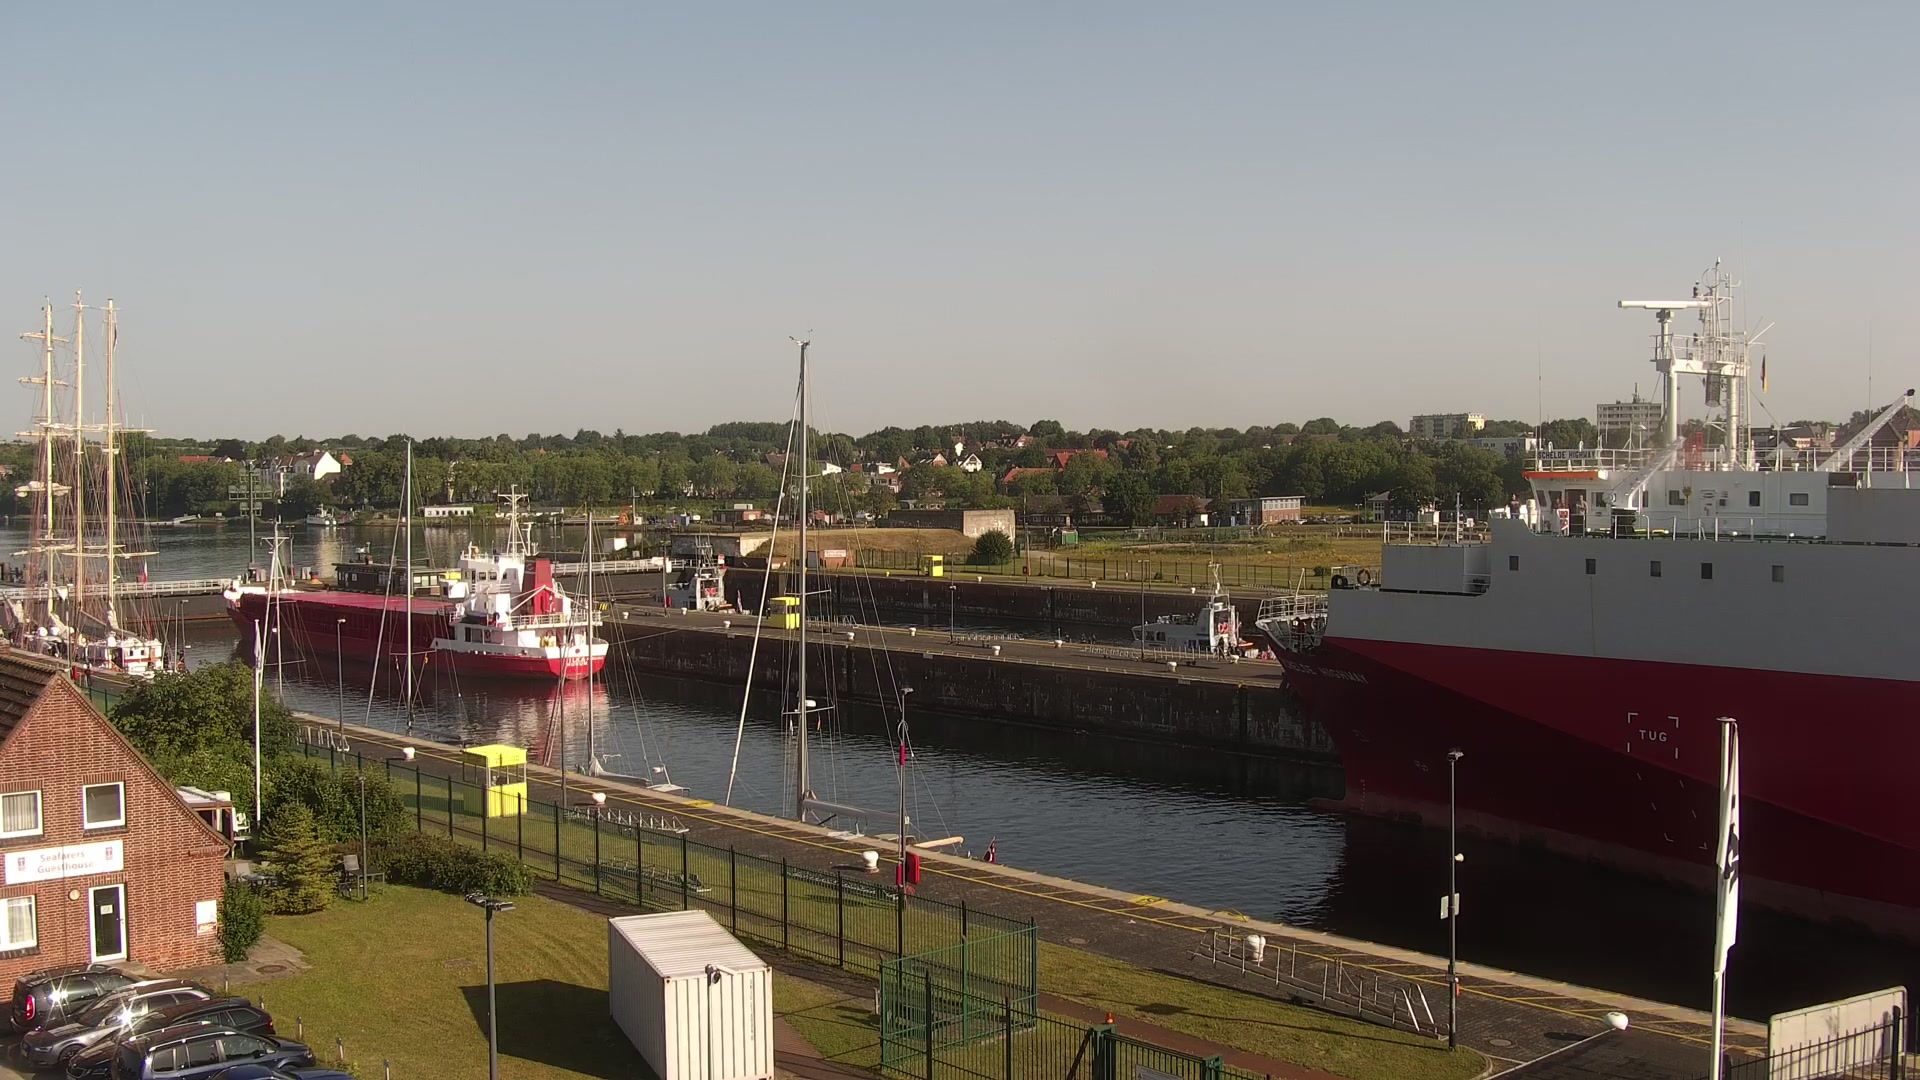land: (17, 973, 220, 1069), (63, 994, 276, 1077), (105, 1015, 315, 1079), (7, 961, 156, 1033)
sea: (1247, 255, 1919, 945), (717, 335, 1000, 869), (222, 480, 609, 680), (1, 287, 191, 683), (524, 491, 691, 799), (360, 435, 477, 746), (248, 512, 343, 723), (1125, 549, 1274, 661), (644, 525, 754, 616)
